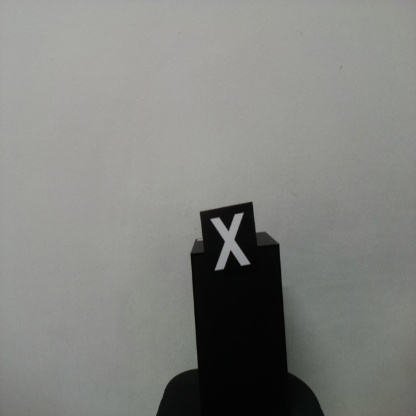id_13: (200, 209, 259, 287)
